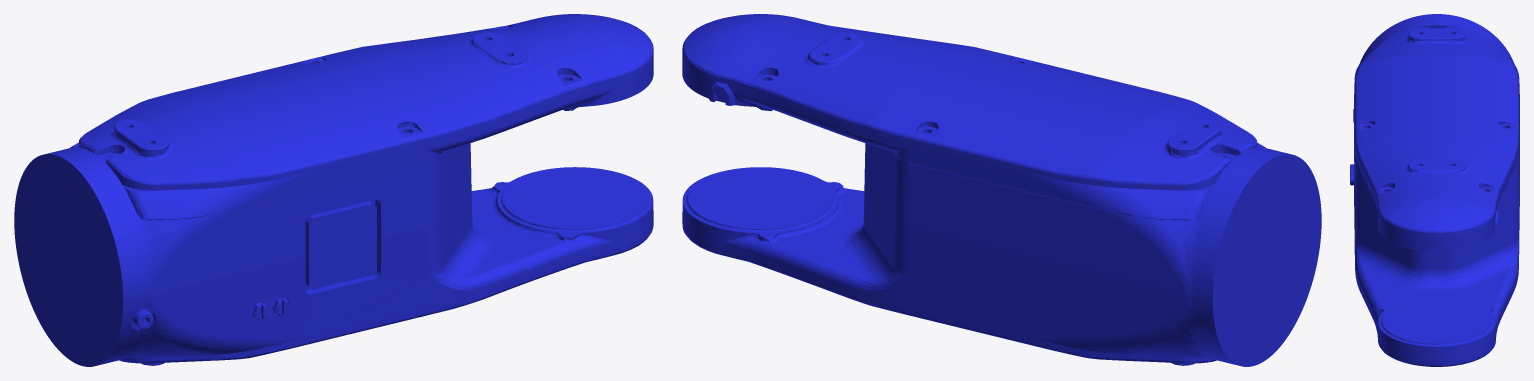
The picture shows the model from 3 angles, left to right: view 1: azimuth 30°, elevation 25°; view 2: azimuth 150°, elevation 25°; view 3: azimuth 270°, elevation 25°; orthographic projection. The views are drawn at different scales.
Parts seen in each view (by area): view 1: /Link4/Link4_001-mesh/0; view 2: /Link4/Link4_001-mesh/0; view 3: /Link4/Link4_001-mesh/0.
Part boxes in pixels (x1=…): /Link4/Link4_001-mesh/0: x1=14, y1=14, x2=653, y2=366; /Link4/Link4_001-mesh/0: x1=682, y1=14, x2=1321, y2=366; /Link4/Link4_001-mesh/0: x1=1350, y1=14, x2=1519, y2=366.
Bounding box in the file's own units: 0.3045 × 0.11 × 0.1036.
